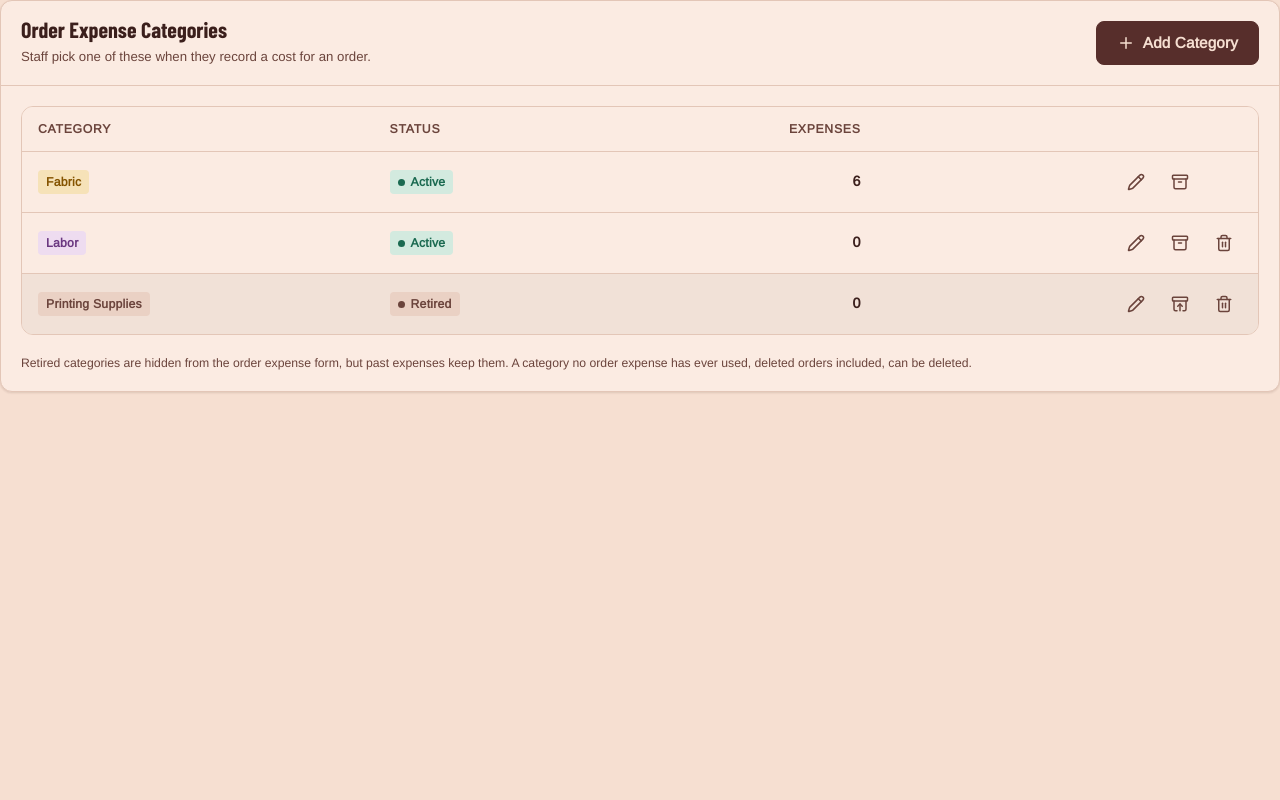
Test: S1 list card: order-expense-categories › deletes a never-used entry after a confirmation in the list words
Check: the table named "Order expense categories" is shown, box [22,107,1258,334]
Click the button named "Delete Labor" at (1224, 243), box [1206,225,1242,261]
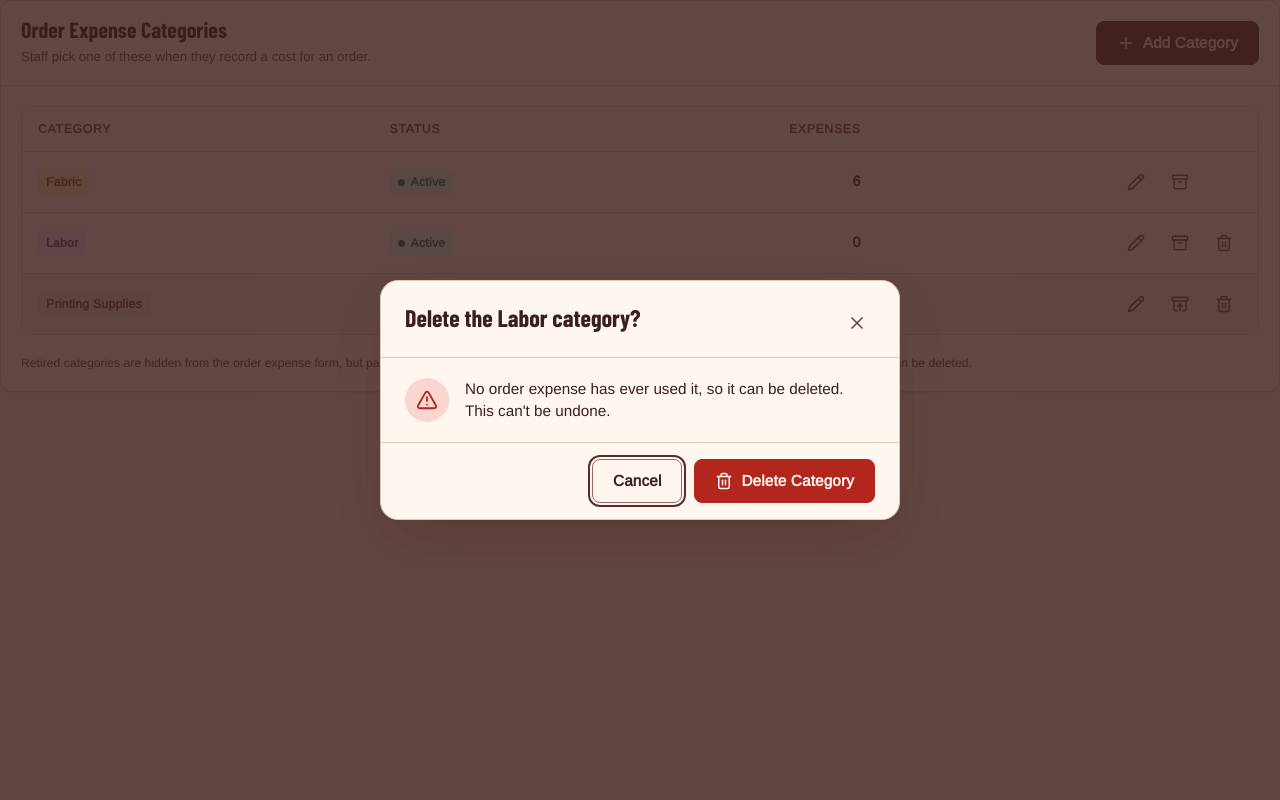
Click the button "Delete Category" at (785, 481), box [694,459,875,503]
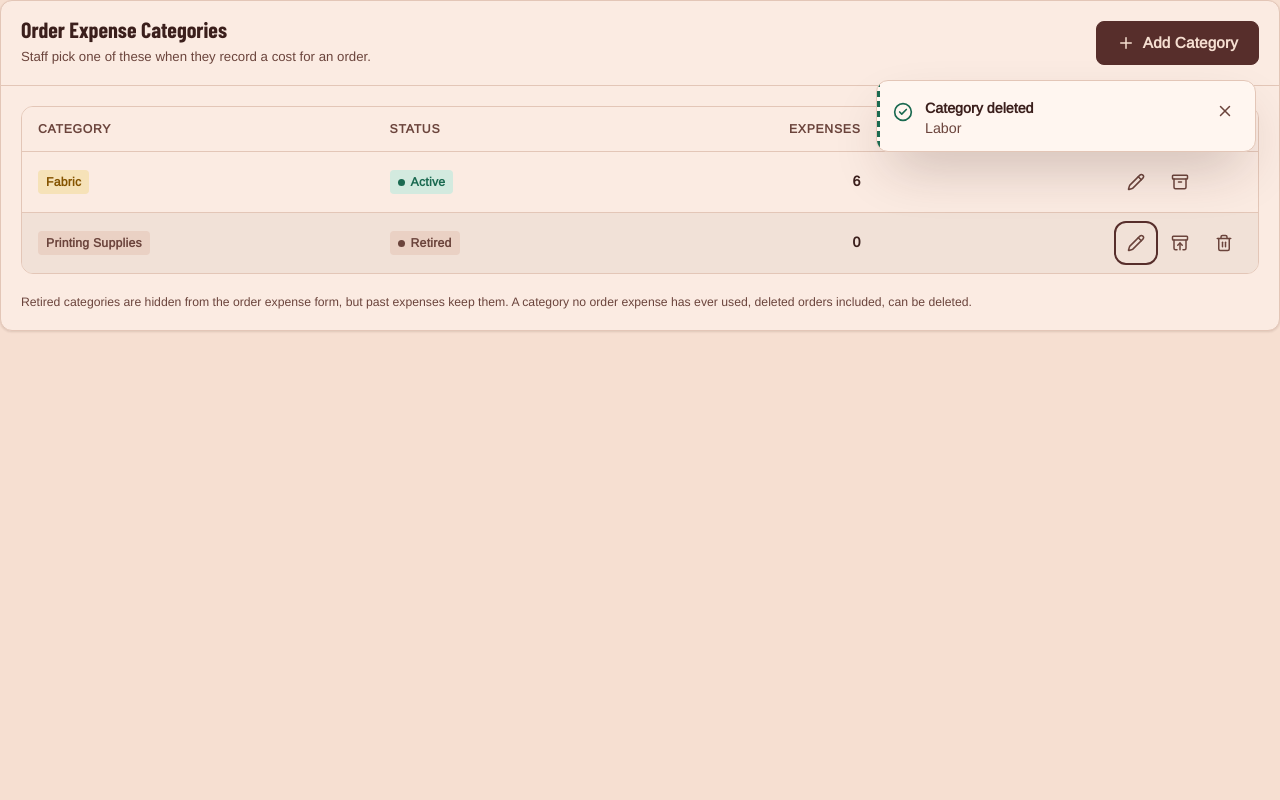
Check: the text "Category deleted" is shown, box [925,101,1034,116]
